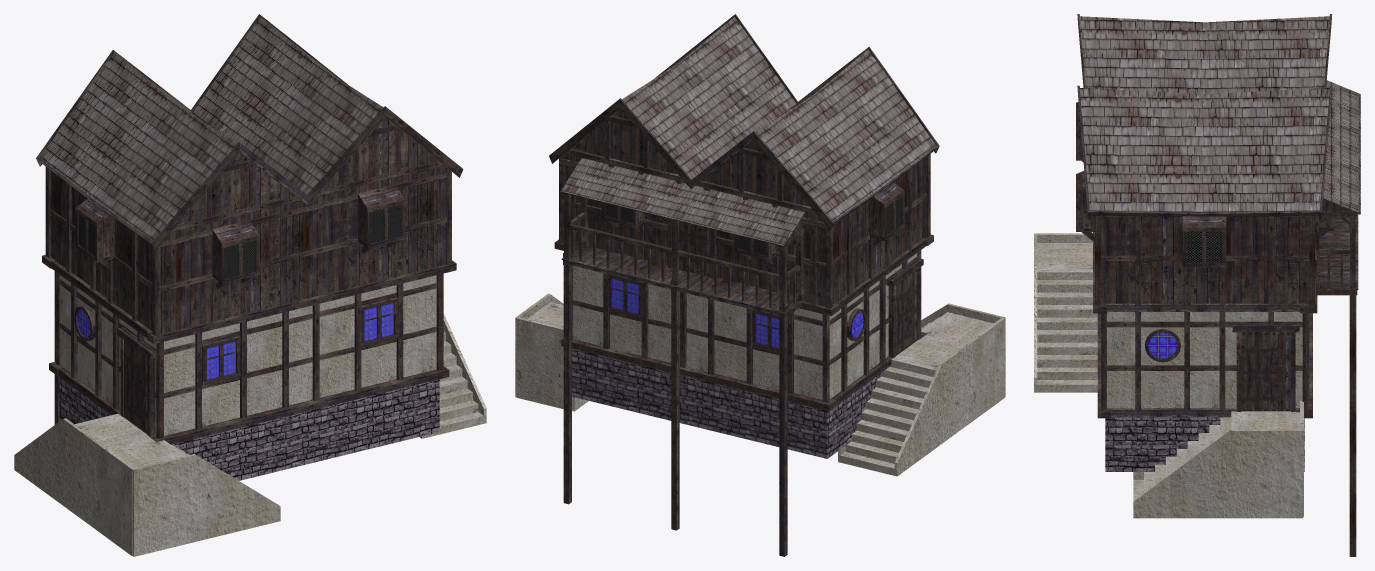
File: house60.dae
3 renders of one model, left to right at view 1: azimuth 30°, elevation 25°; view 2: azimuth 150°, elevation 25°; view 3: azimuth 270°, elevation 25°, orthographic. The views are drawn at different scales.
Visible parts, largest first — view 1: House3_Roof, House3_Level2, House3_Level1, House3_Level0, House3_Level2_Beams, House3_Level1_Beams, Stair1Wide2, Stair1Wide1, House3_Roof_Frame, House3_Level0_SeperatorBeams, House3_Level1_SeperatorBeams, Stair1WideBack (+15 smaller); view 2: House3_Roof, House3_Level1, House3_Level2, House3_Level0, Balcony1Roof, House3_Level2_Beams, House3_Level1_Beams, Stair1Wide_001, Balcony1, Balcony1Stilts, Stair1Wide1, House3_Roof_Frame (+16 smaller); view 3: House3_Roof, House3_Level2, Stair1Wide1_001, House3_Level1, Stair1Wide, House3_Level1_Beams, House3_Level0, Balcony1Roof, Door1_001, House3_Level2_Beams, Balcony1, Stair1Wide_002 (+12 smaller).
Boxes of the visible parts, x1,y1,x2,y2 form: House3_Roof: [40, 17, 383, 240]; House3_Level2: [51, 116, 446, 333]; House3_Level1: [60, 275, 436, 435]; House3_Level0: [59, 377, 439, 480]; House3_Level2_Beams: [45, 124, 451, 335]; House3_Level1_Beams: [56, 272, 443, 438]; Stair1Wide2: [132, 454, 280, 556]; Stair1Wide1: [14, 418, 99, 530]; House3_Roof_Frame: [36, 14, 463, 250]; House3_Level0_SeperatorBeams: [49, 361, 449, 444]; House3_Level1_SeperatorBeams: [42, 255, 456, 343]; Stair1WideBack: [97, 443, 134, 555]; House3_Roof: [622, 17, 936, 221]; House3_Level1: [573, 253, 917, 399]; House3_Level2: [564, 108, 925, 306]; House3_Level0: [572, 349, 881, 458]; Balcony1Roof: [560, 158, 804, 245]; House3_Level2_Beams: [559, 115, 930, 308]; House3_Level1_Beams: [572, 250, 921, 402]; Stair1Wide_001: [840, 336, 962, 475]; Balcony1: [560, 191, 805, 314]; Balcony1Stilts: [563, 265, 787, 556]; Stair1Wide1: [894, 340, 974, 476]; House3_Roof_Frame: [549, 14, 939, 230]; House3_Roof: [1079, 16, 1329, 212]; House3_Level2: [1100, 216, 1309, 303]; Stair1Wide1_001: [1133, 429, 1303, 518]; House3_Level1: [1107, 312, 1302, 408]; Stair1Wide: [1037, 243, 1097, 392]; House3_Level1_Beams: [1101, 312, 1308, 410]; House3_Level0: [1105, 417, 1304, 471]; Balcony1Roof: [1323, 80, 1360, 213]; Door1_001: [1241, 332, 1290, 411]; House3_Level2_Beams: [1095, 215, 1316, 304]; Balcony1: [1316, 198, 1360, 289]; Stair1Wide_002: [1133, 411, 1299, 501].
Bounding box in the file's own units: 10.73 × 7.51 × 11.33.
18 materials, 18 textured.
